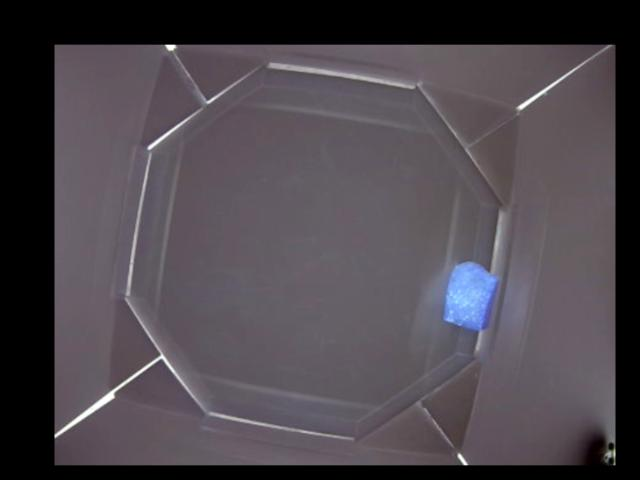Potato: (441, 261, 496, 330)
